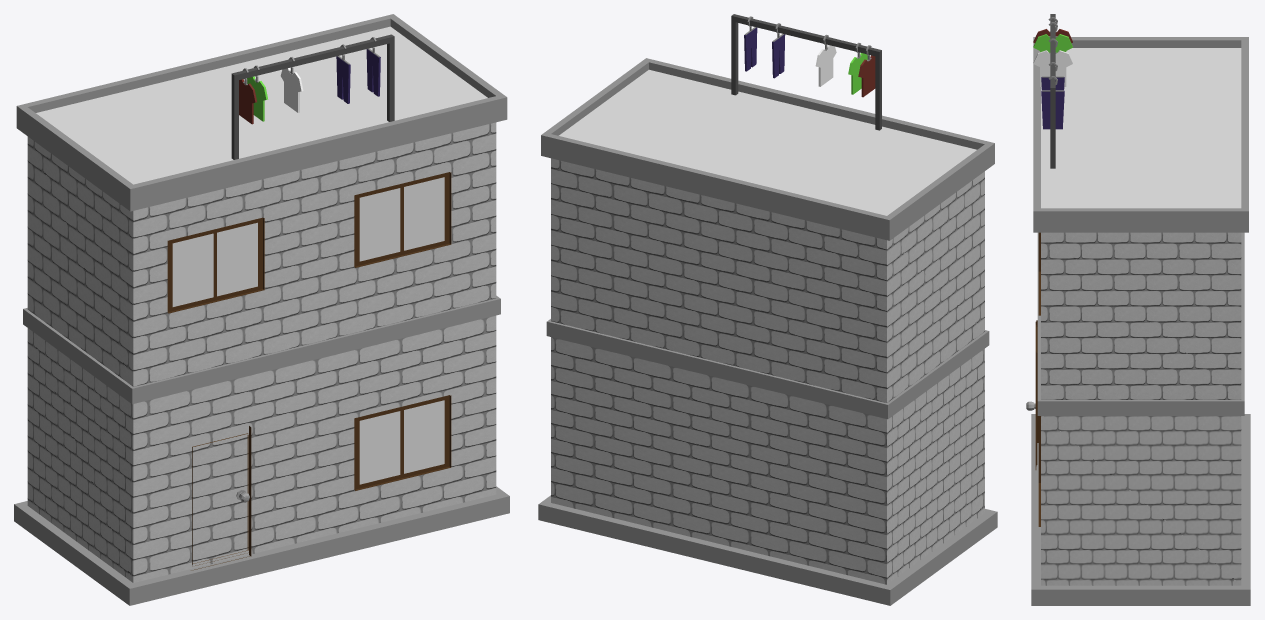
The model's file is building2.fbx.
3 renders of one model, left to right at view 1: azimuth 30°, elevation 25°; view 2: azimuth 150°, elevation 25°; view 3: azimuth 270°, elevation 25°, orthographic. The views are drawn at different scales.
Visible parts, largest first — view 1: building2, Window.008, Window.009, Window.010, sampayan, door, Cube.631; view 2: building2, sampayan; view 3: building2, sampayan, Cube.631, Cube.630, Cube.628, door, Window.010.
Part boxes in pixels (<box>): building2: <box>14,14,509,605</box>; Window.008: <box>167,217,264,313</box>; Window.009: <box>354,172,451,267</box>; Window.010: <box>354,395,451,490</box>; sampayan: <box>231,34,394,159</box>; door: <box>191,426,251,570</box>; Cube.631: <box>280,68,303,112</box>; building2: <box>538,58,997,605</box>; sampayan: <box>731,14,881,130</box>; building2: <box>1031,37,1250,605</box>; sampayan: <box>1050,14,1055,168</box>; Cube.631: <box>1033,50,1072,86</box>; Cube.630: <box>1041,90,1064,129</box>; Cube.628: <box>1033,34,1072,52</box>; door: <box>1035,320,1038,469</box>; Window.010: <box>1038,416,1040,526</box>.
Size of the model in its own units: 12.8 by 16.01 by 6.91.
12 materials, 1 textured.
